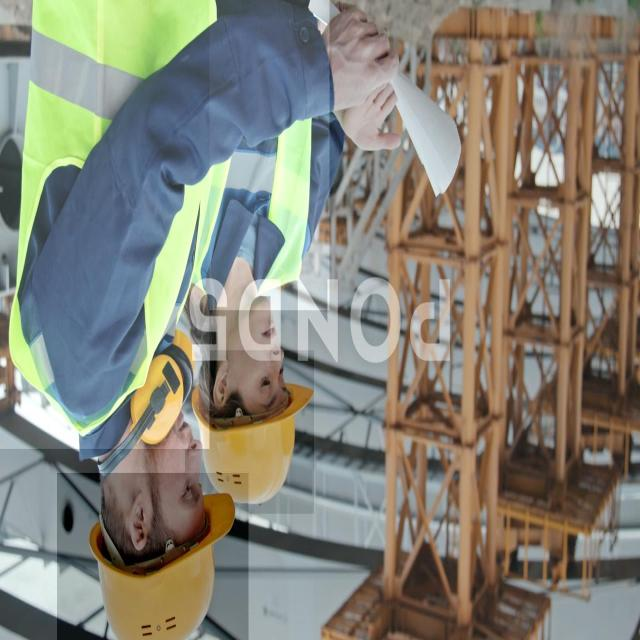Helmet: (57, 473, 249, 640), (185, 350, 314, 514)
Safety Vest: (0, 0, 210, 449), (176, 0, 330, 310)
